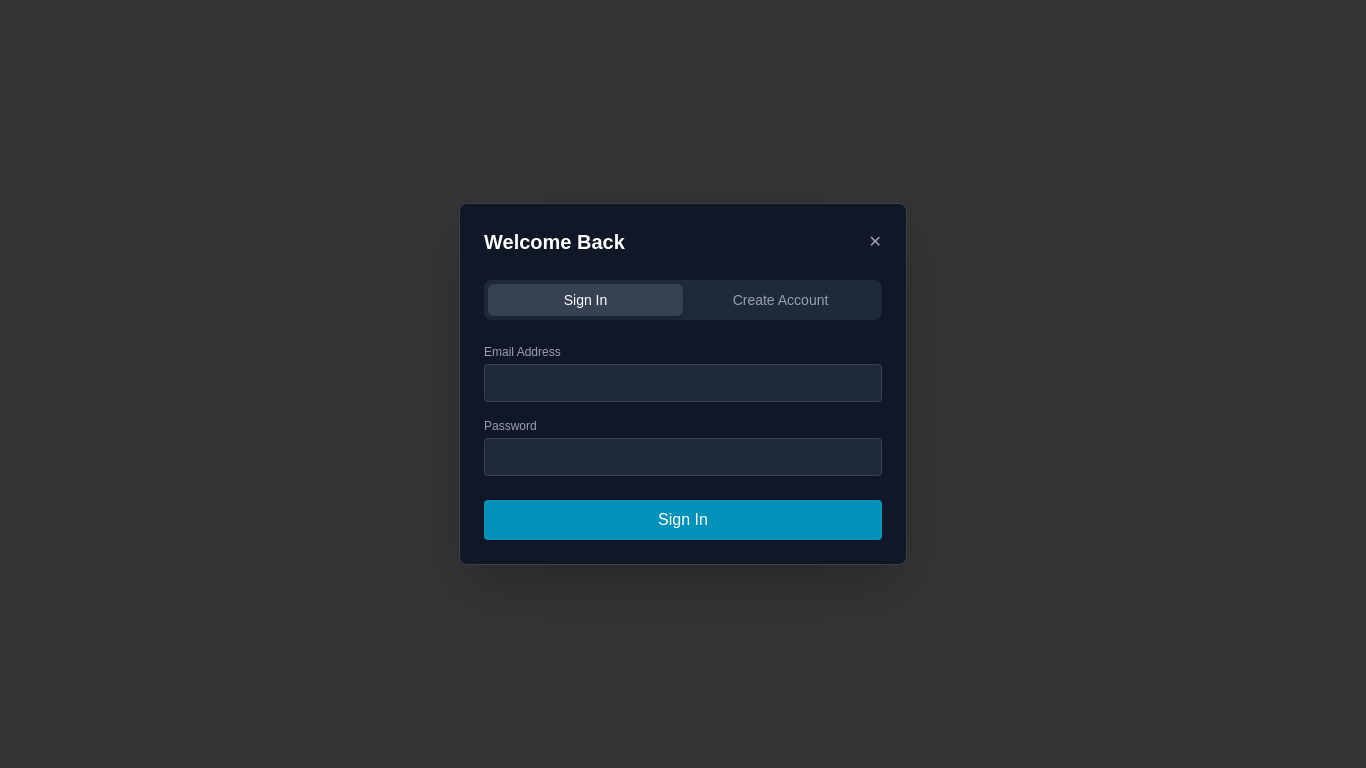
Test: AuthModal › switches back to login mode
// Switch to register first
Click the button "Create Account".
click(780, 300)  # box [683, 284, 878, 316]
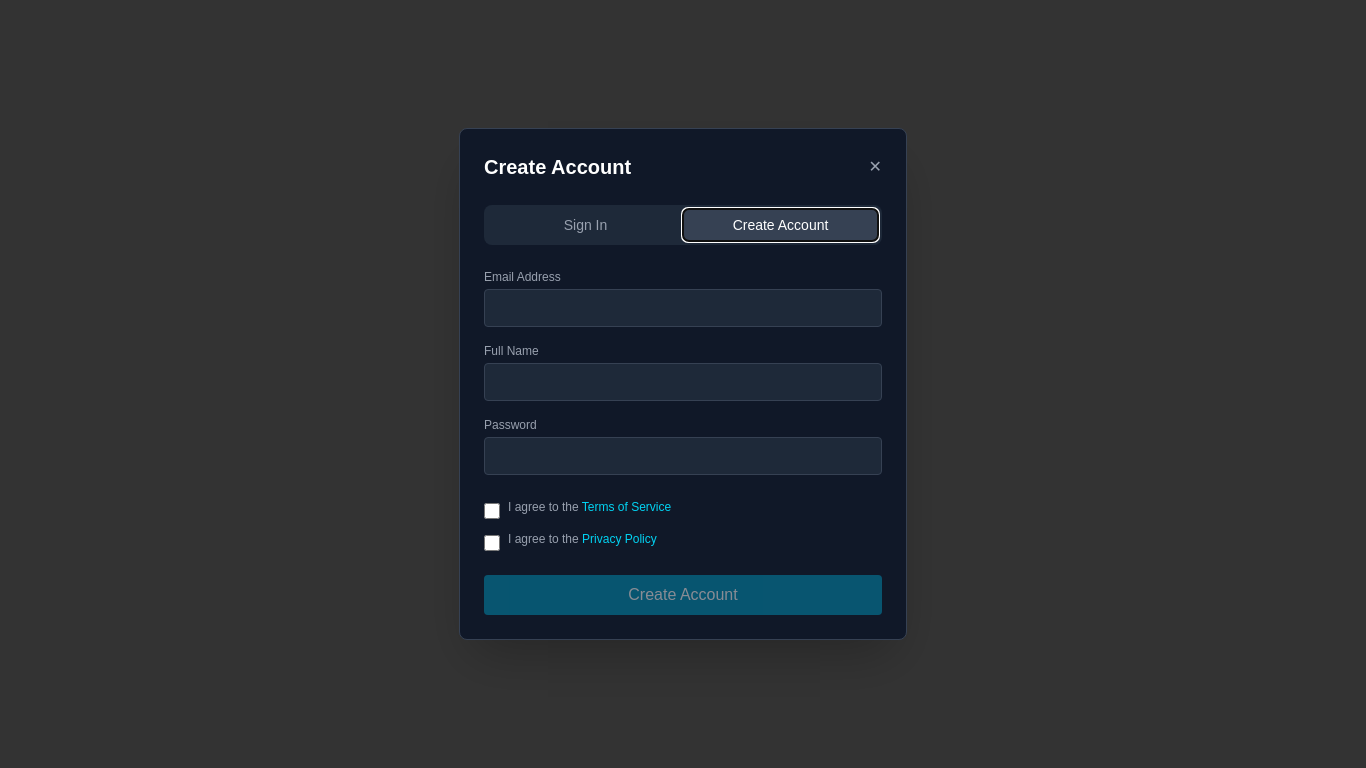
Expected: the heading "Create Account" is shown, [484, 153, 631, 181]
Click the button "Sign In".
click(586, 225)  # box [488, 209, 683, 241]
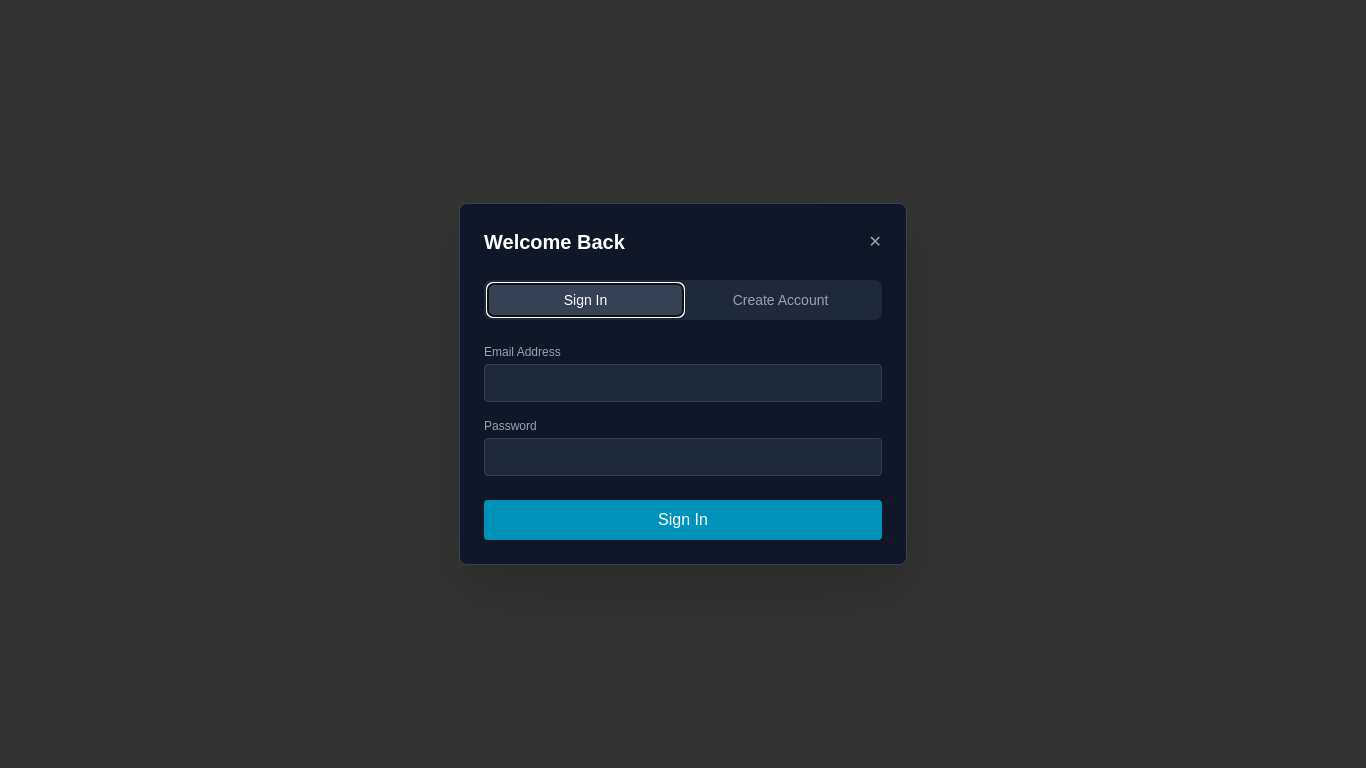
Expected: the heading "Welcome Back" is shown, [484, 228, 625, 256]
Expected: the label with placeholder "Full Name" is gone
